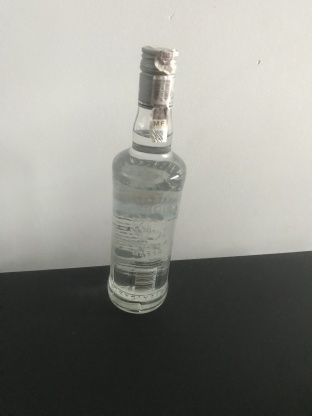nakretka: (136, 43, 180, 110)
